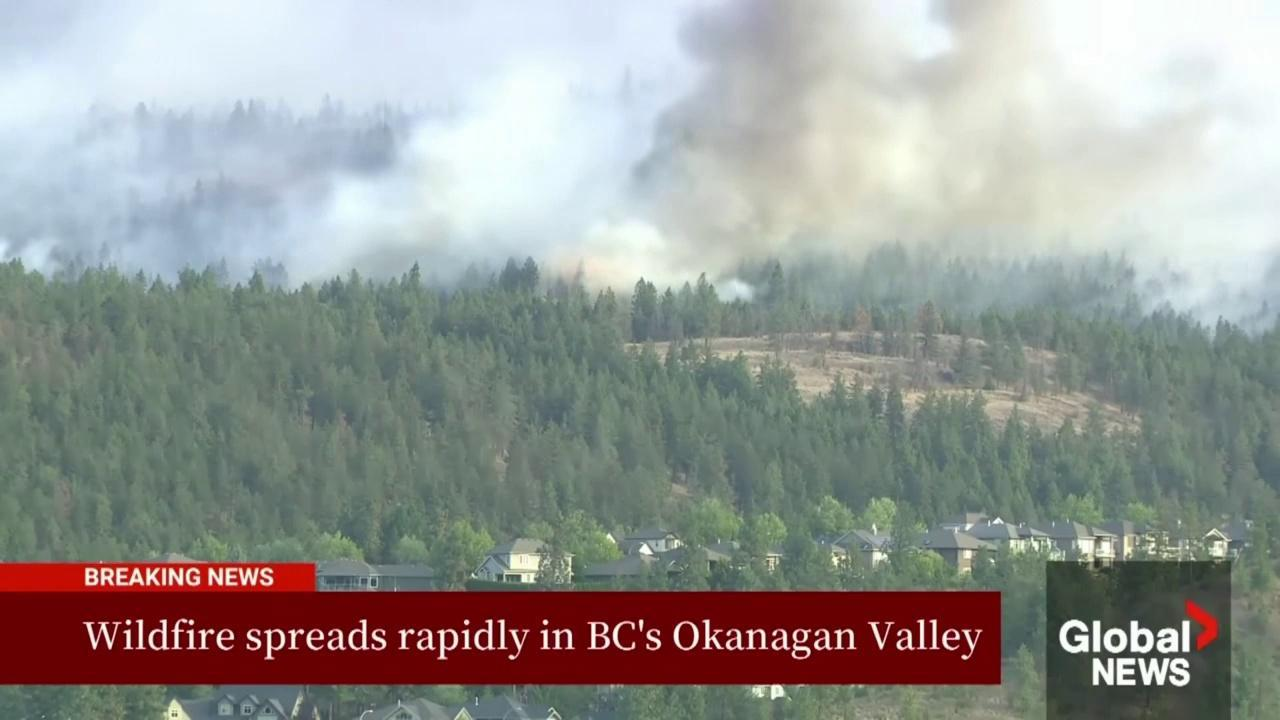smoke: (0, 0, 1280, 351)
